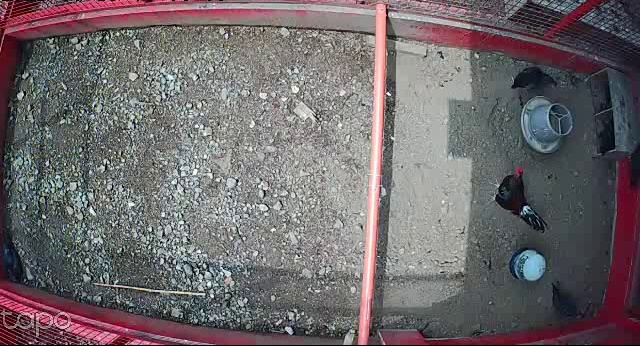Chicken: (509, 61, 559, 93)
Drinker: (507, 246, 548, 282)
Feeder: (519, 93, 575, 156)
Rooster: (483, 164, 550, 236)
